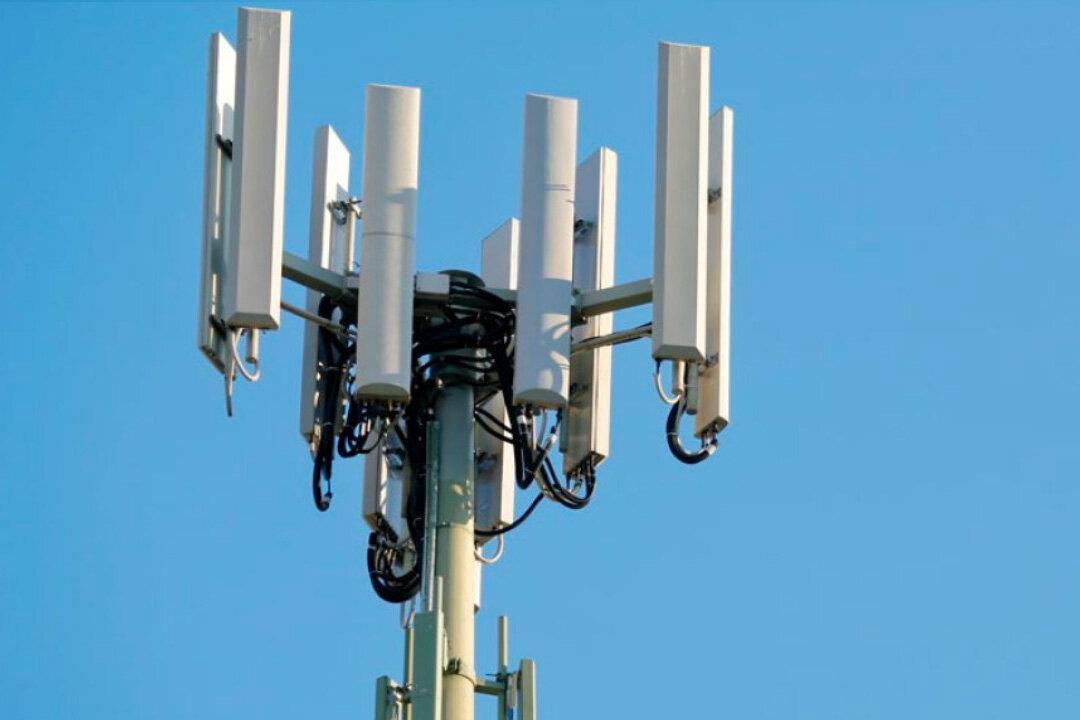antenna: (215, 1, 299, 338), (357, 69, 426, 405), (293, 107, 356, 466), (517, 79, 582, 409), (653, 33, 712, 368), (579, 125, 624, 484), (703, 91, 739, 446)
